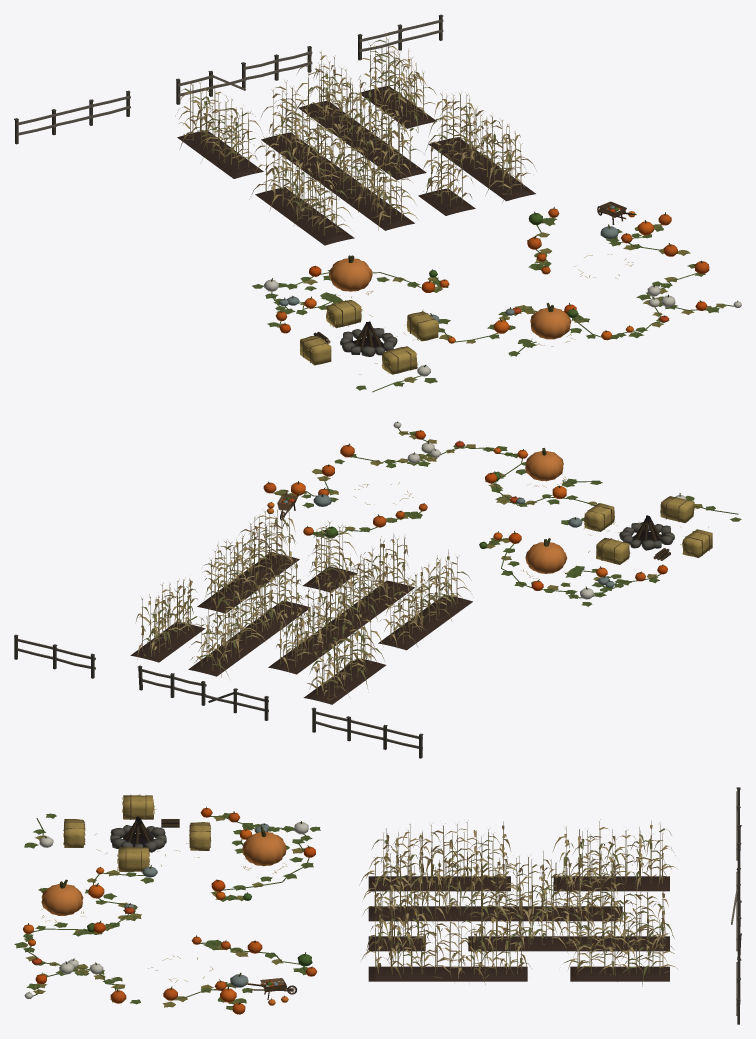
Rendered from hg-fields.glb.
3 views of the same model, one above another, from view 1: azimuth 30°, elevation 25°; view 2: azimuth 150°, elevation 25°; view 3: azimuth 270°, elevation 25° (orthographic). The views are drawn at different scales.
Visible parts, largest first — view 1: hg-fields; view 2: hg-fields; view 3: hg-fields.
Boxes of the visible parts, x1,y1,x2,y2 form: hg-fields: [14, 14, 741, 392]; hg-fields: [14, 421, 741, 758]; hg-fields: [14, 787, 741, 1024].
Size of the model in its own units: 21.36 by 3.43 by 30.68.
